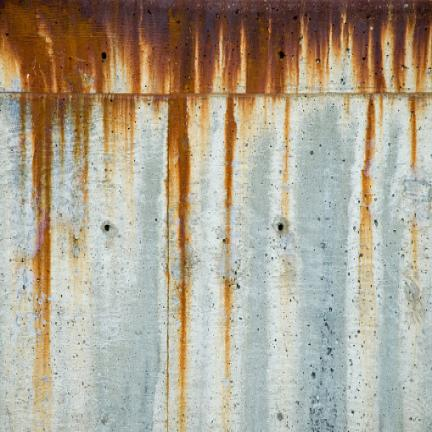karat: (0, 0, 431, 94)
